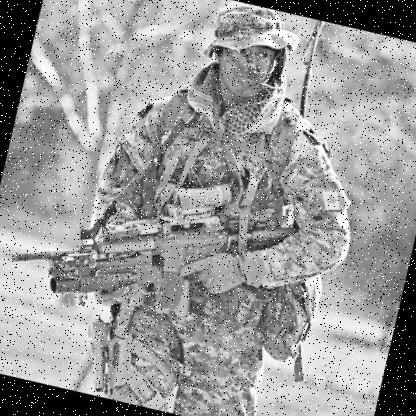rifle: (14, 171, 276, 345)
